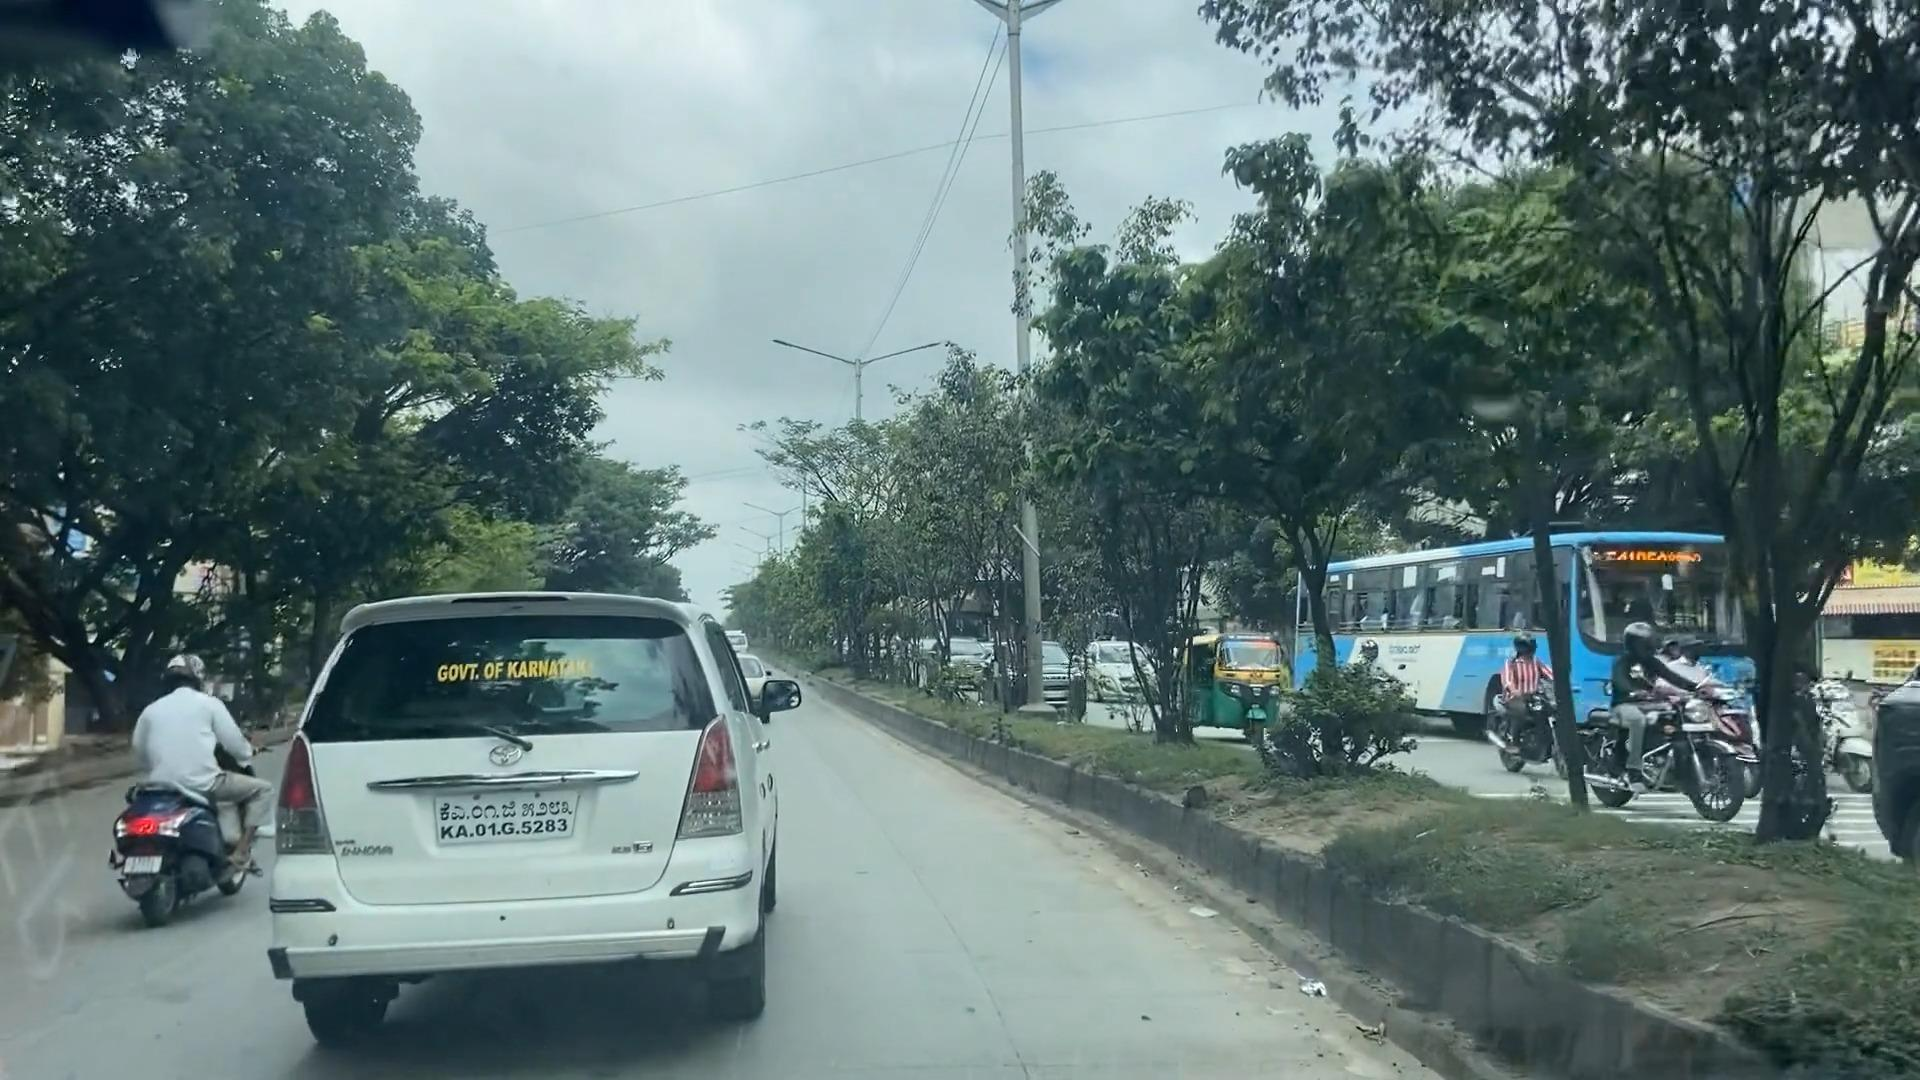HMV: (1288, 513, 1789, 770)
